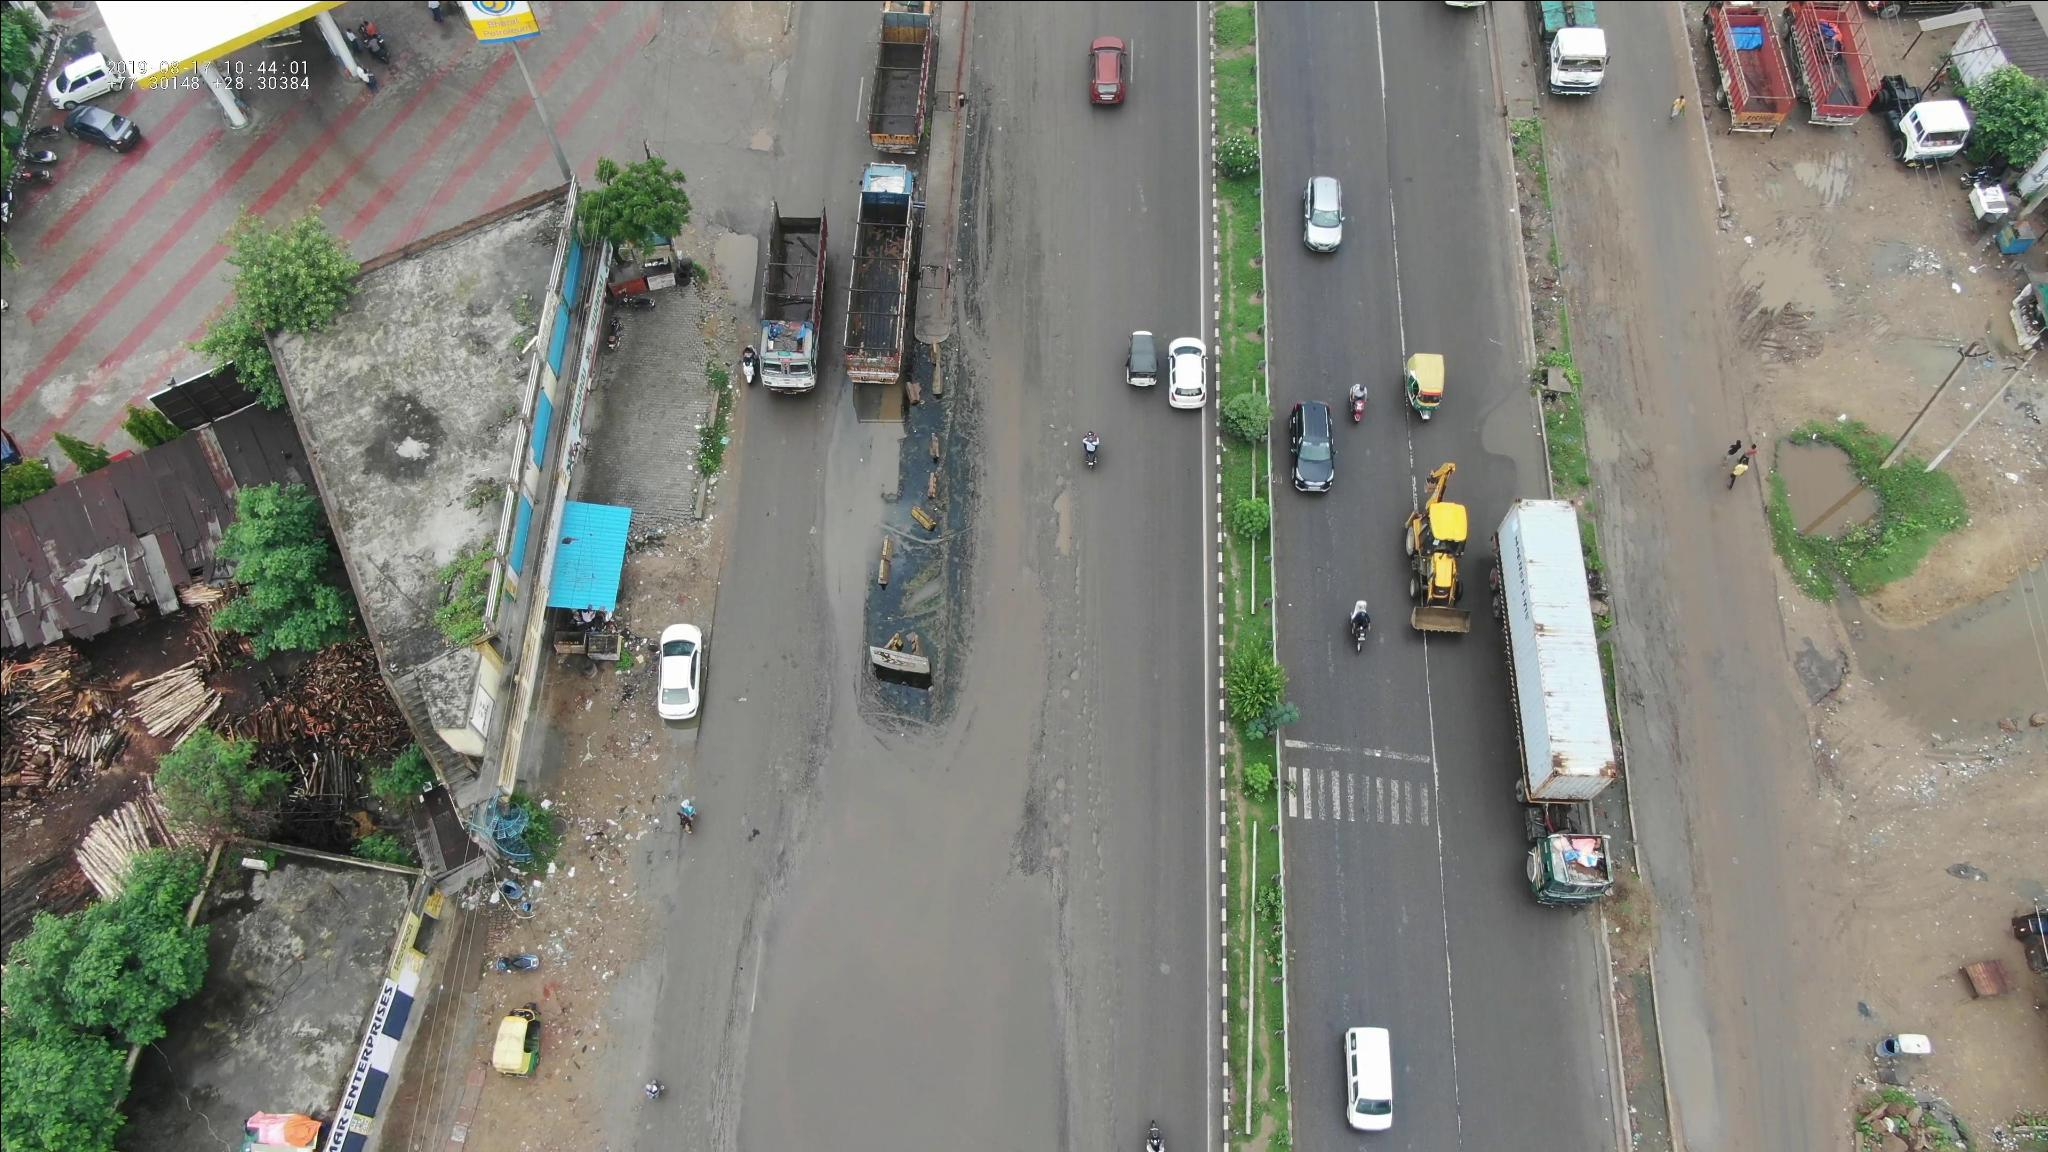Muddy_road: (1573, 264, 1654, 537), (1609, 550, 1701, 717), (966, 105, 1030, 336)
Potholes: (1047, 610, 1107, 890), (667, 965, 731, 1151), (1032, 390, 1092, 582), (1066, 886, 1129, 1061), (1321, 803, 1369, 1018), (760, 644, 823, 800)
Waterlogging: (744, 549, 1083, 1139)
